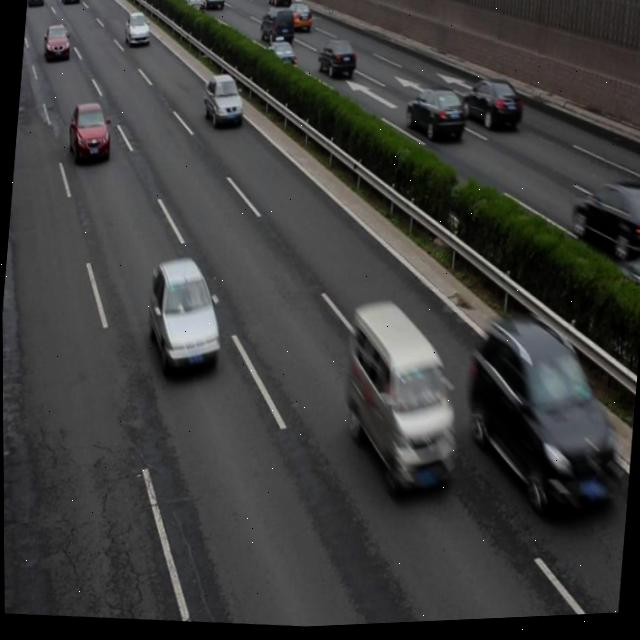car: (458, 314, 631, 529), (142, 257, 226, 380), (567, 183, 640, 268), (459, 79, 523, 138), (403, 89, 468, 147), (66, 102, 112, 167), (200, 73, 245, 131), (607, 256, 640, 332), (315, 40, 357, 82), (41, 22, 73, 63), (263, 37, 297, 75), (123, 11, 151, 50), (285, 0, 313, 34), (180, 0, 206, 19), (266, 0, 291, 10)
truck: (336, 299, 468, 508), (258, 5, 295, 47), (197, 0, 225, 11)
